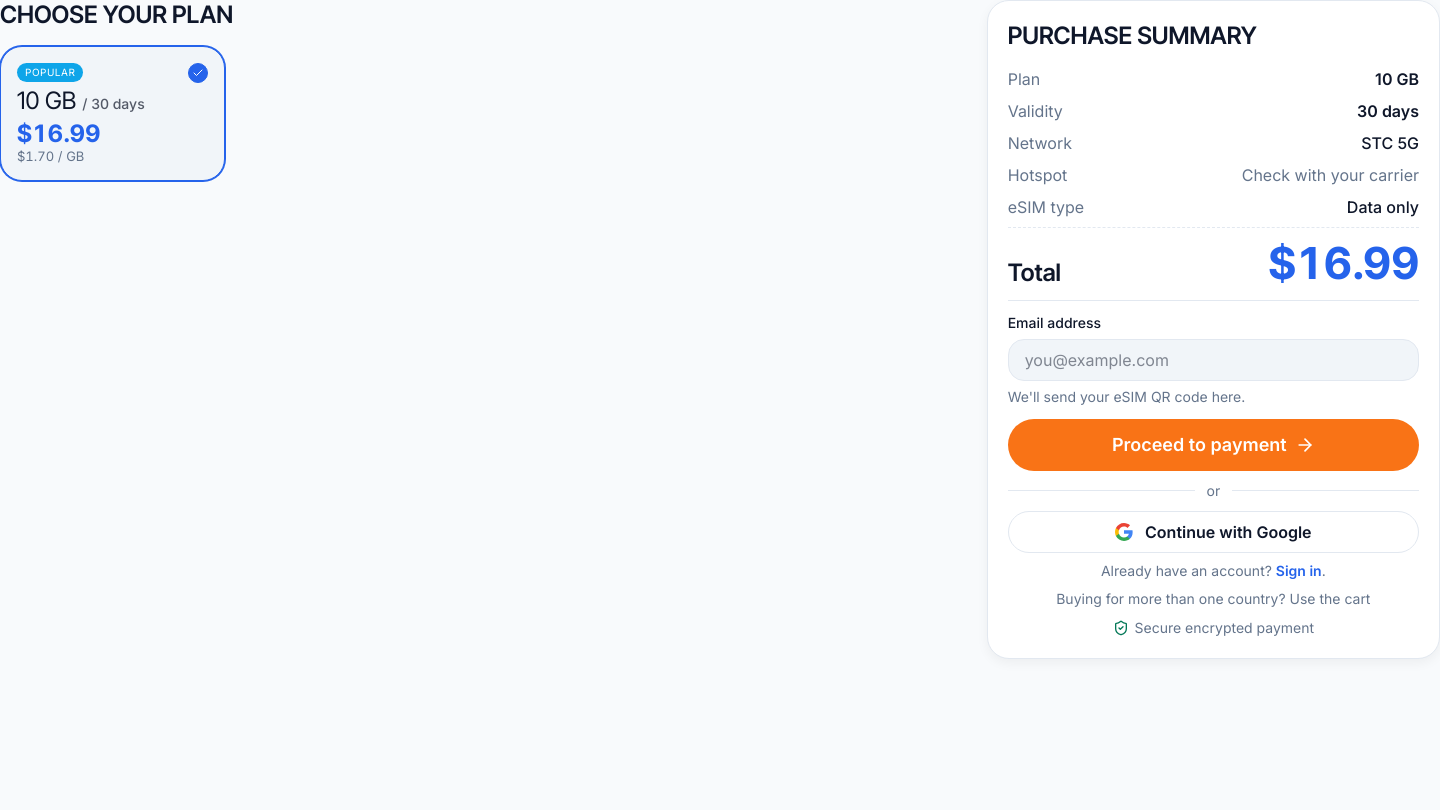
Test: buying straight from the plan page › will not buy without an address to deliver to
Expected: the field named "email address" is shown, [1008,339,1419,381]
Click the 1st button.
click(1213, 445)  # box [1008,419,1419,471]
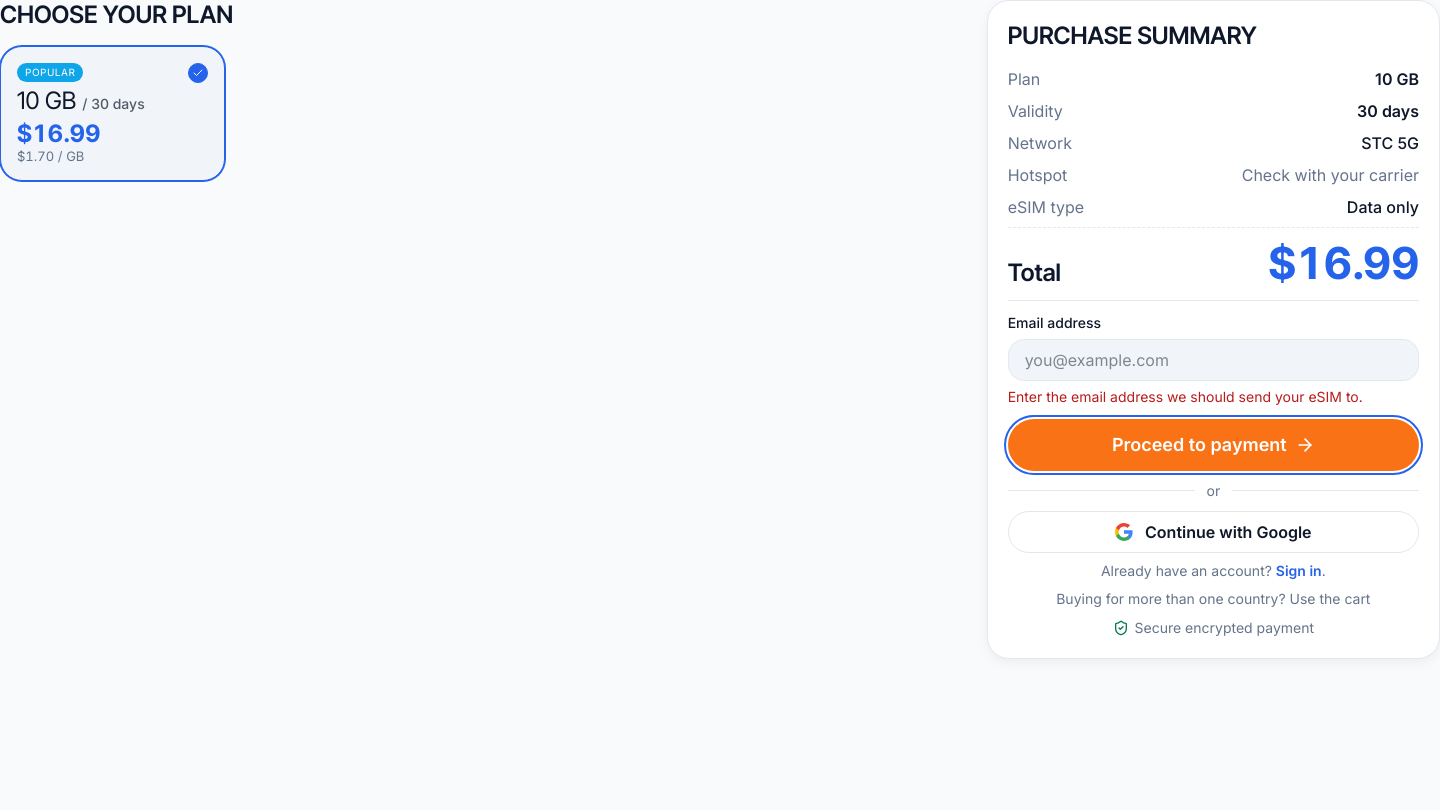
Result: the message is shown at [1008,387,1419,407]
